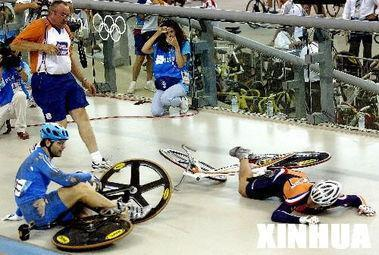Fall-Detected: (7, 113, 137, 237)
